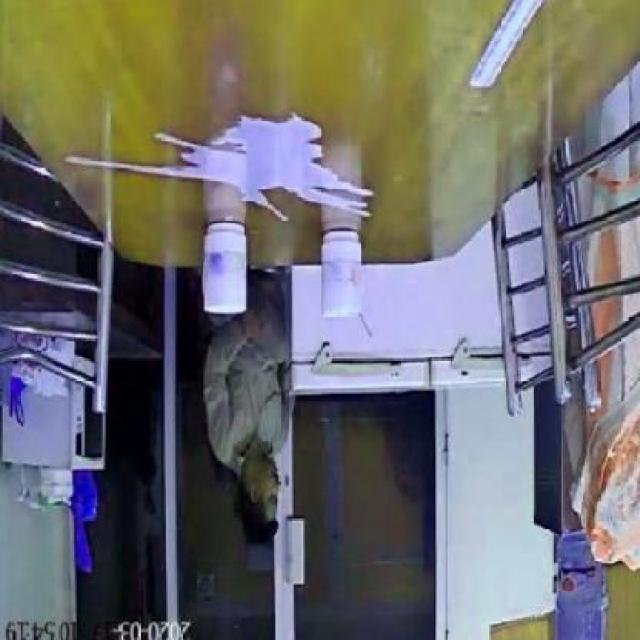spillage: (65, 113, 373, 216)
